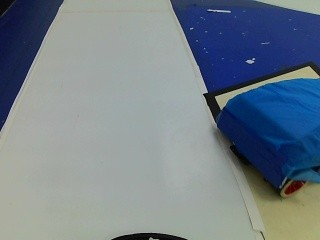car: (212, 71, 320, 206)
